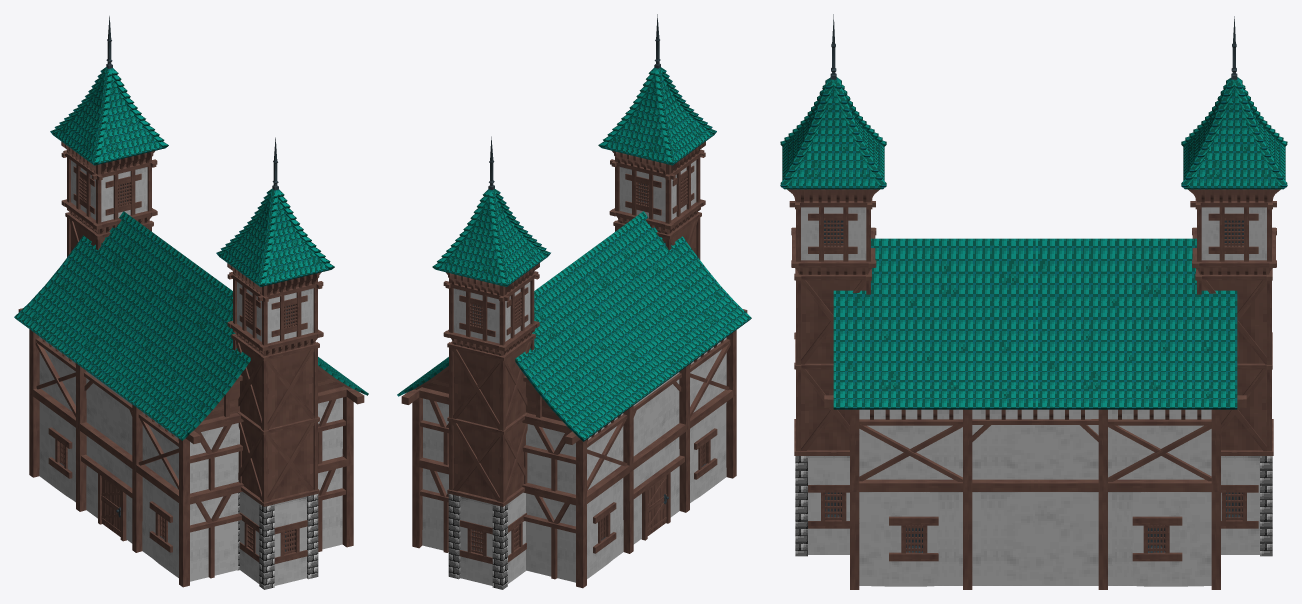
The model's file is maison3.glb.
The picture shows the model from 3 angles, left to right: view 1: azimuth 30°, elevation 25°; view 2: azimuth 150°, elevation 25°; view 3: azimuth 270°, elevation 25°; orthographic projection. The views are drawn at different scales.
Visible parts, largest first — view 1: Lateral1; view 2: Lateral1; view 3: Lateral1.
Part boxes in pixels (left/top/right/bottom): Lateral1: left=14, top=16, right=368, bottom=589; Lateral1: left=397, top=14, right=751, bottom=589; Lateral1: left=780, top=14, right=1287, bottom=589.
Size of the model in its own units: 3.47 by 7.72 by 6.73.
1 material, 1 textured.
